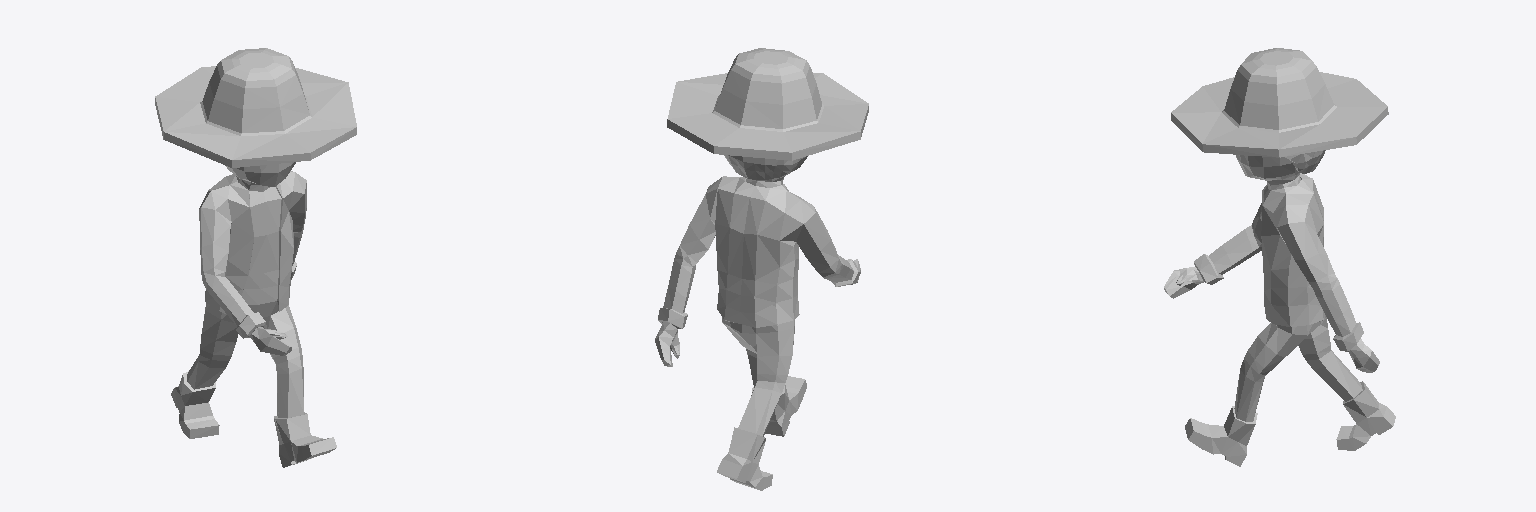
The model's file is walk.obj.
3 renders of one model, left to right at view 1: azimuth 30°, elevation 25°; view 2: azimuth 150°, elevation 25°; view 3: azimuth 270°, elevation 25°, orthographic.
Parts seen in each view (by area): view 1: Character_Cube; view 2: Character_Cube; view 3: Character_Cube.
Boxes of the visible parts, x1=… form: Character_Cube: x1=155, y1=48, x2=356, y2=467; Character_Cube: x1=655, y1=48, x2=868, y2=490; Character_Cube: x1=1164, y1=48, x2=1395, y2=466.
Size of the model in its own units: 2.05 by 4.18 by 2.23.